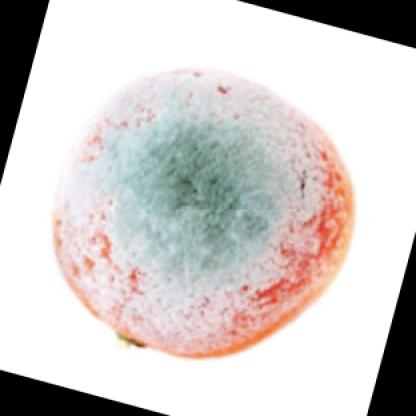rotten: (57, 69, 361, 359)
